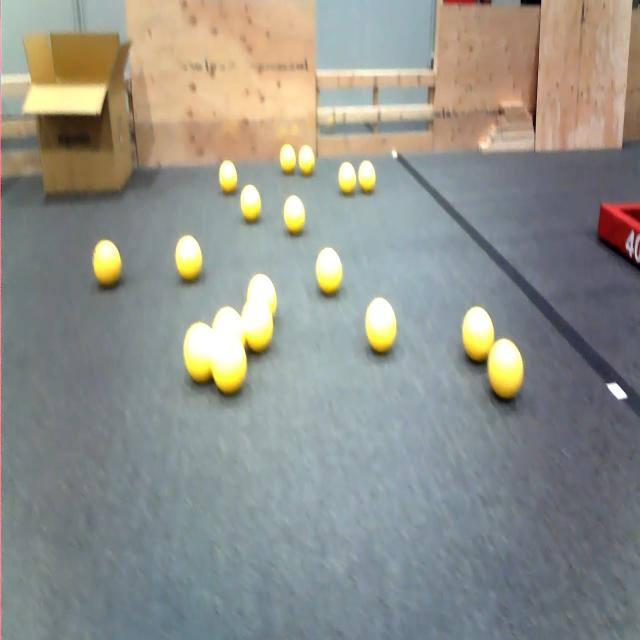fuel: (211, 332, 247, 394), (487, 339, 523, 399), (183, 322, 213, 383), (462, 307, 494, 362), (365, 297, 396, 352), (242, 298, 273, 352), (92, 239, 122, 287), (247, 273, 277, 316), (212, 306, 245, 345), (316, 248, 342, 295), (175, 236, 202, 281), (283, 195, 305, 234), (240, 184, 262, 222), (219, 160, 237, 193), (338, 162, 356, 194), (358, 160, 375, 192), (298, 144, 314, 175), (280, 144, 296, 174)
